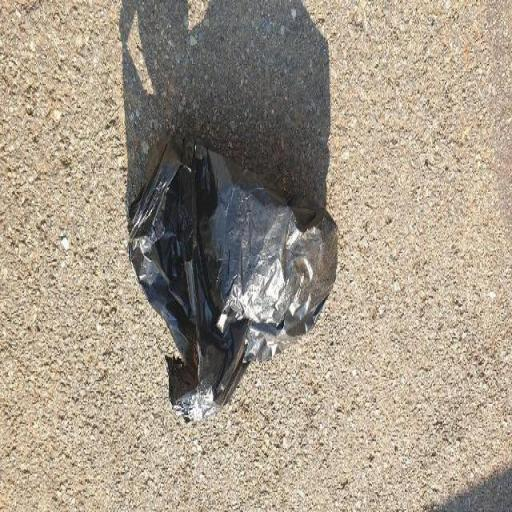plastic-bag: (126, 128, 340, 426)
